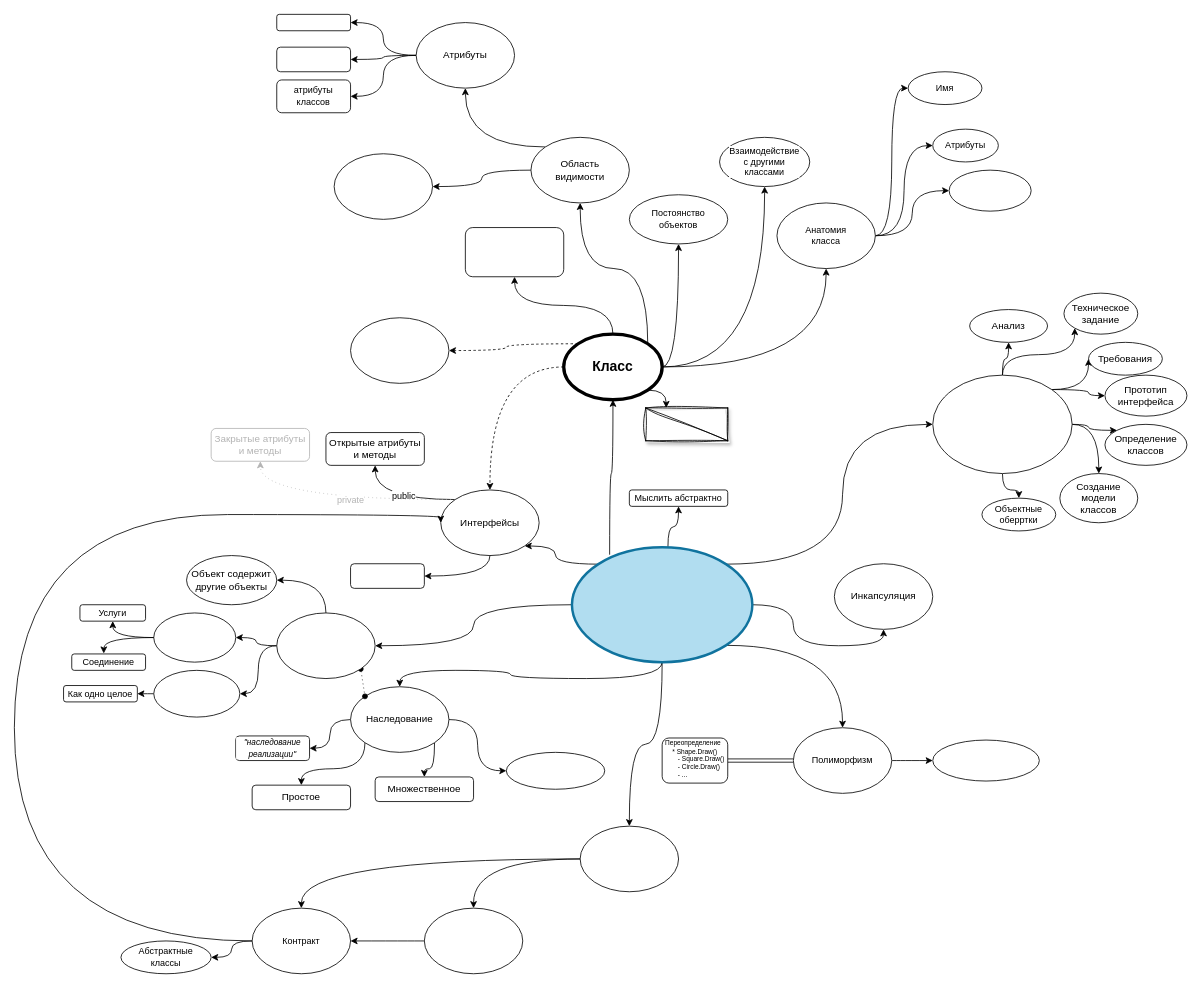
Some shapes in this 1201 by 988 pixel diagram are drawn without their labels. Here are the shapes that lost their labels. From the top down, the centre of each, then its label:
pixel 313 22: локальные
pixel 313 59: атрибуты объектов
pixel 383 186: Методы
pixel 989 190: Методы доступа
pixel 514 252: Конструктор
pixel 399 350: Реализация
pixel 687 425: тесно саязанные классы
pixel 1002 424: Проектирование
pixel 387 575: "наследование определения"
pixel 661 604: ООП
pixel 194 637: Ассоциация
pixel 325 645: Композиция "Содержит как часть"
pixel 196 693: Агрегация
pixel 555 770: От общего к частному
pixel 985 760: Множественность форм
pixel 629 858: Повторное использование
pixel 473 940: Фреймворки
